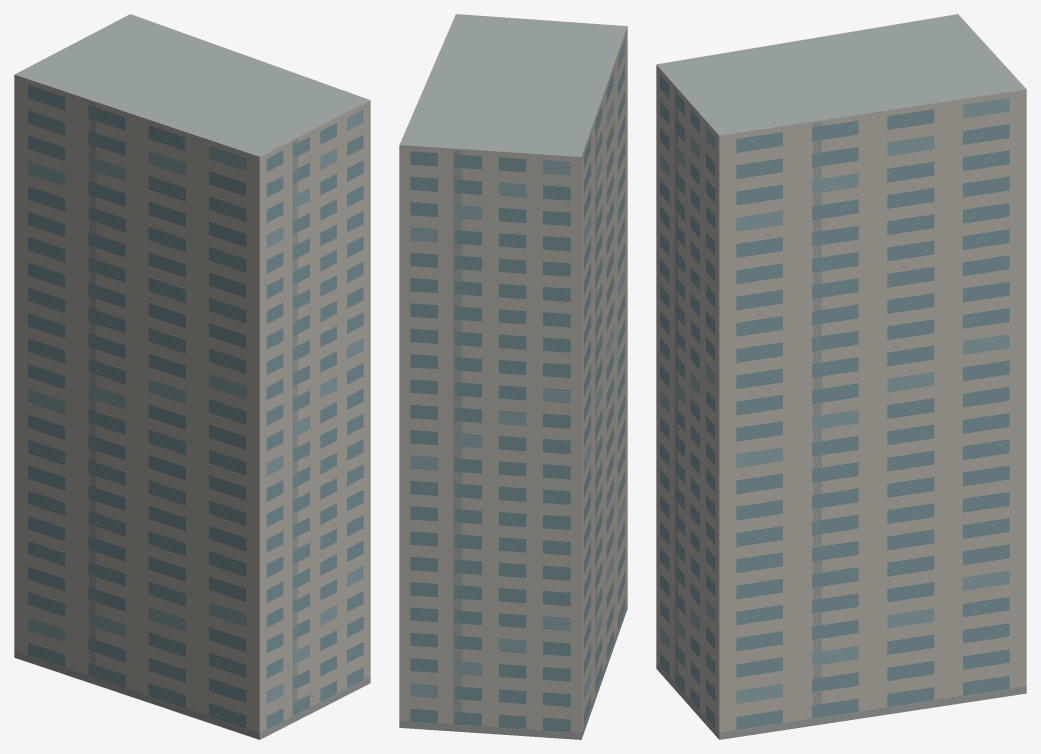
The model's file is residential-3382c7b2-edfe-4932-a271-a328ab0e29b2.glb.
3 renders of one model, left to right at view 1: azimuth 30°, elevation 25°; view 2: azimuth 150°, elevation 25°; view 3: azimuth 270°, elevation 25°, orthographic. The views are drawn at different scales.
Visible parts, largest first — view 1: residential-3382c7b2-edfe-4932-a271-a328ab0e29b2.tmp; view 2: residential-3382c7b2-edfe-4932-a271-a328ab0e29b2.tmp; view 3: residential-3382c7b2-edfe-4932-a271-a328ab0e29b2.tmp.
Boxes of the visible parts, x1=… form: residential-3382c7b2-edfe-4932-a271-a328ab0e29b2.tmp: x1=14, y1=14, x2=370, y2=739; residential-3382c7b2-edfe-4932-a271-a328ab0e29b2.tmp: x1=399, y1=14, x2=627, y2=739; residential-3382c7b2-edfe-4932-a271-a328ab0e29b2.tmp: x1=656, y1=14, x2=1026, y2=739.
Size of the model in its own units: 37.19 by 86 by 47.8.
